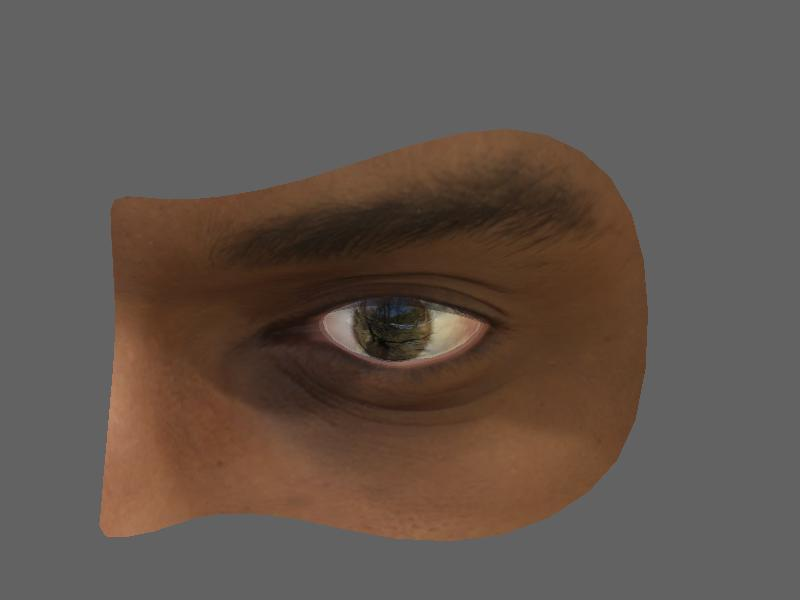iris: (354, 300, 435, 363)
